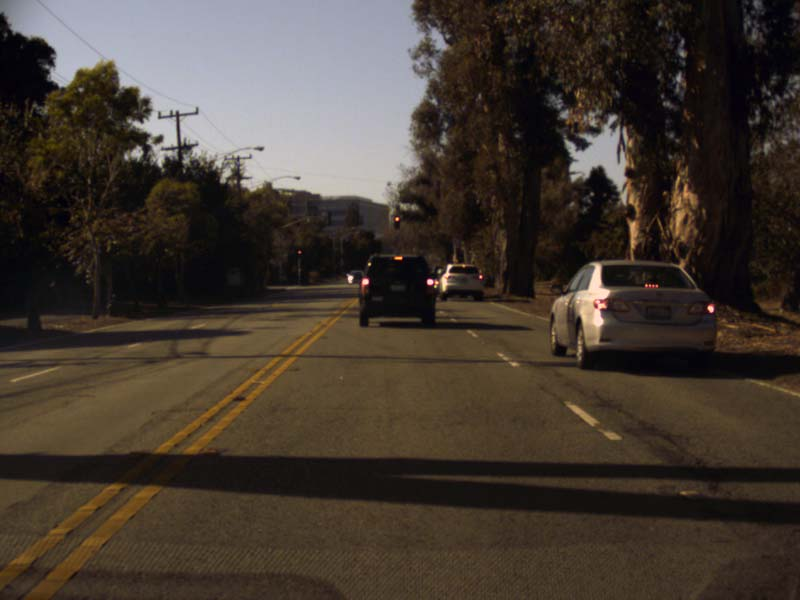Red: (394, 215, 399, 229), (296, 248, 302, 258)
